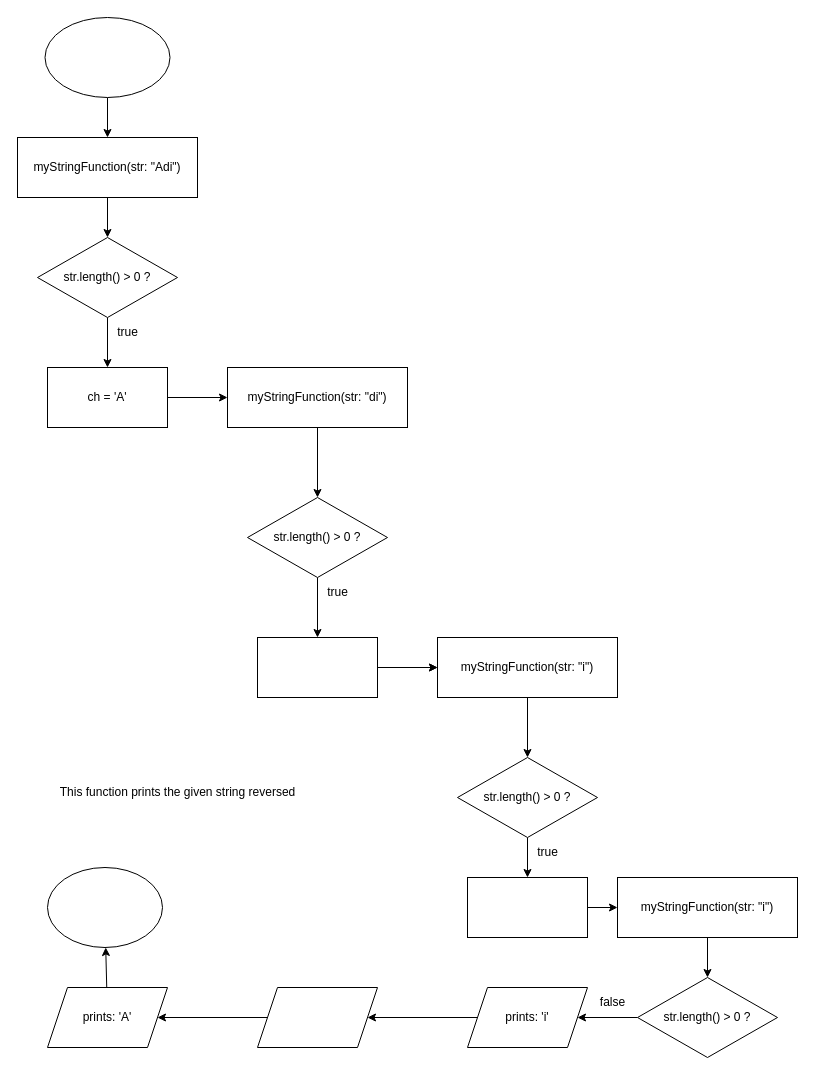
Some shapes in this 815 by 1075 pixel diagram are drawn without their labels. Here are the shapes that lost their labels. From the top down, the box of each, then its label:
(44, 16, 170, 98): Start
(256, 636, 378, 698): ch = 'd'
(46, 866, 162, 948): End
(466, 876, 588, 938): ch = 'i'
(256, 986, 378, 1048): prints: 'd'
